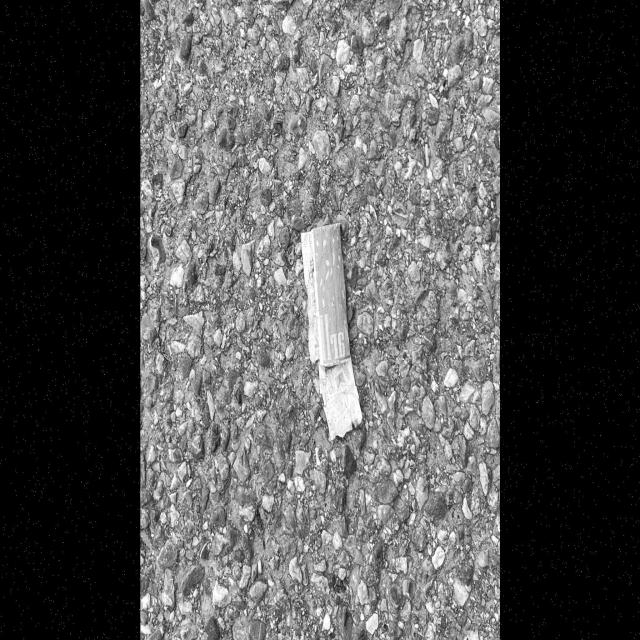other waste: (299, 221, 364, 443)
